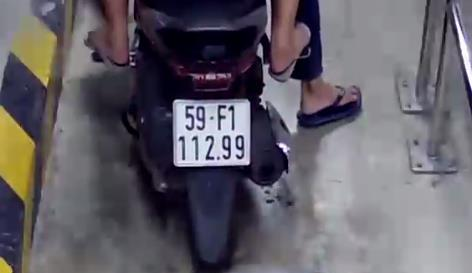lisence: (170, 99, 251, 167)
